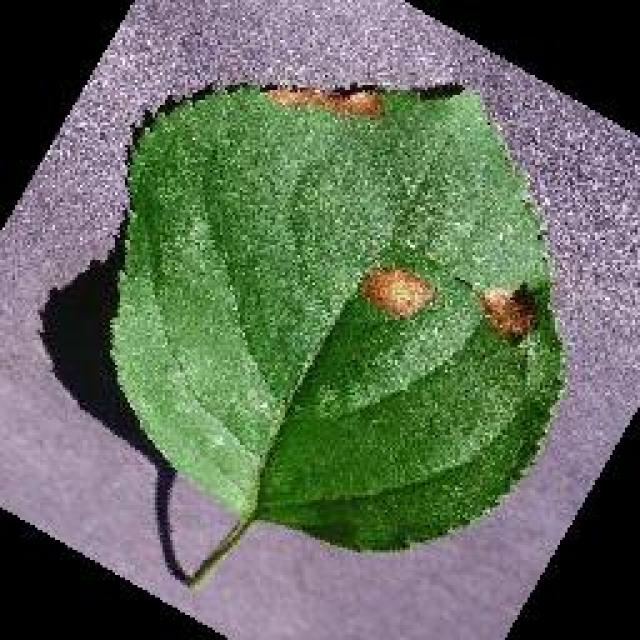Black_rot: (105, 78, 567, 588)
